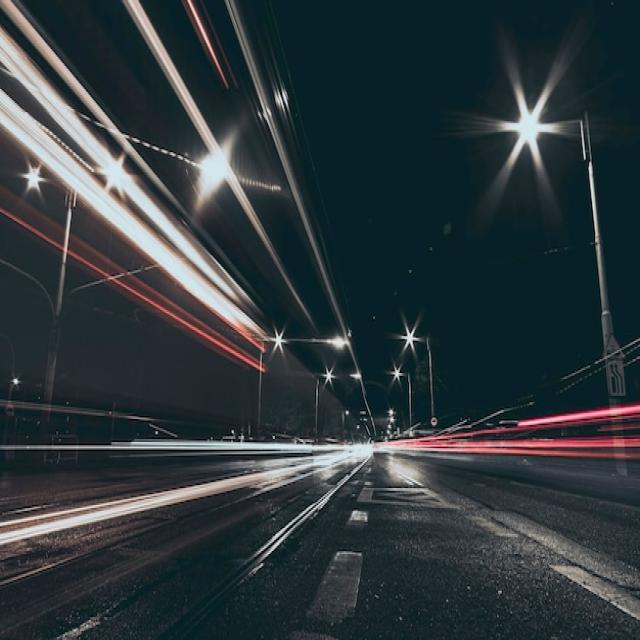streetlight: (100, 160, 136, 210), (516, 92, 542, 150), (24, 164, 50, 198), (270, 323, 288, 359), (392, 365, 410, 396), (398, 325, 416, 352), (382, 402, 398, 430), (322, 366, 334, 392)
